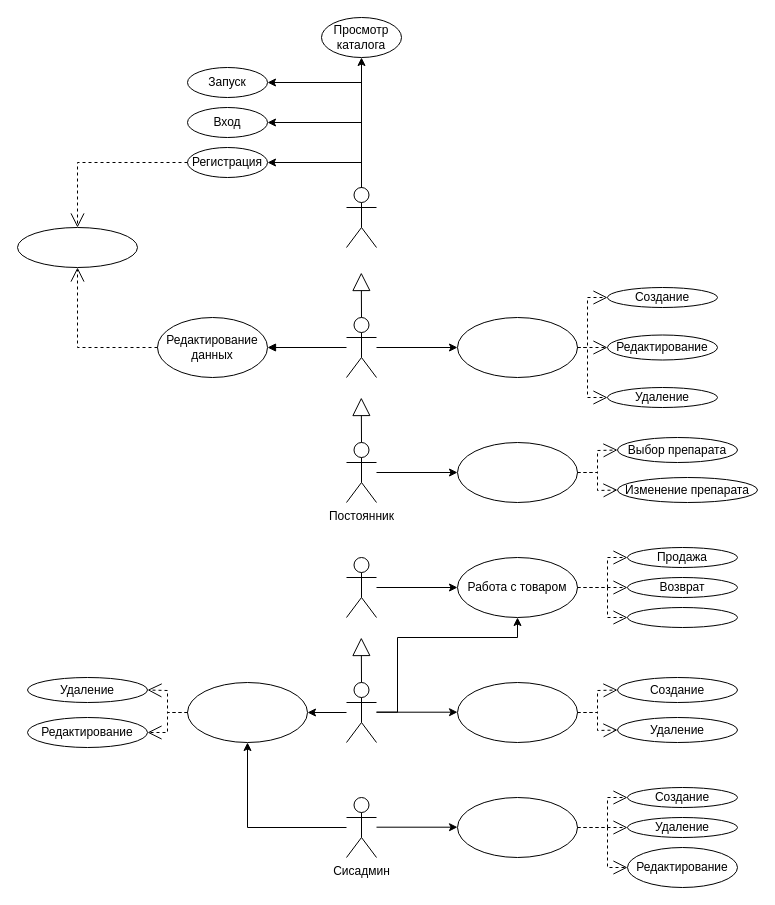
Image size: 775x905. Some labels were removed from this diagram. Each missing label, with the box of its shape:
Авторизованный: (346, 316, 376, 378)
Администратор: (346, 682, 376, 742)
Заказ товара: (626, 606, 738, 628)
Подтверждение данных: (16, 226, 138, 268)
Пользователь: (346, 186, 376, 248)
Работа с заказами: (456, 316, 578, 378)
Работа с заказами клиентов: (186, 682, 308, 742)
Работа с пользователями: (456, 796, 578, 858)
Работа с скидками: (456, 442, 578, 502)
Работа с сотрудниками: (456, 682, 578, 742)
Фармацевт: (346, 556, 376, 618)
